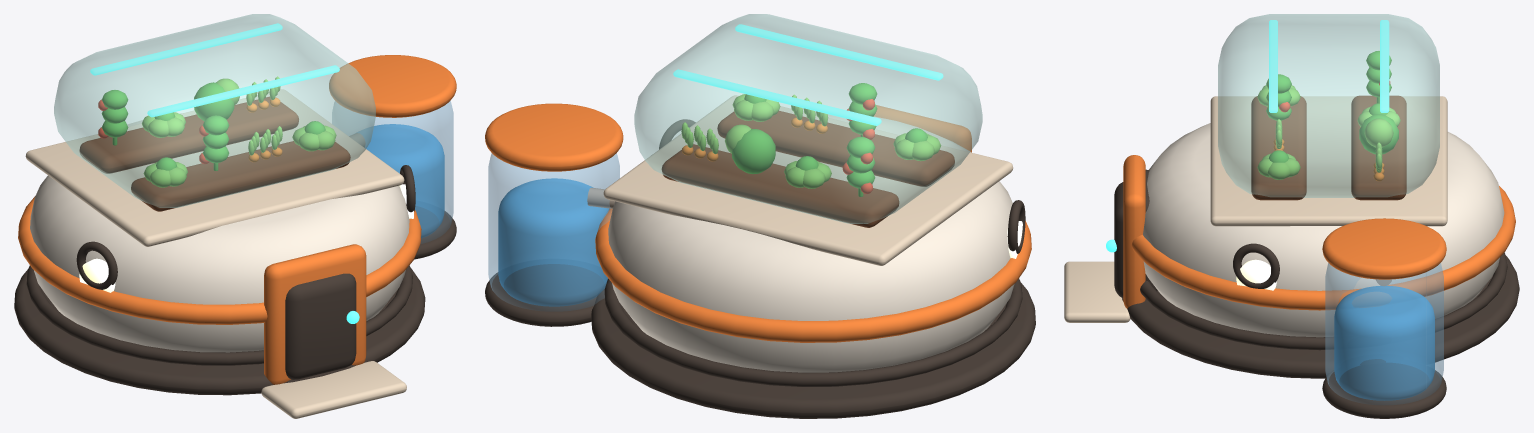
The model's file is veglab.glb.
The picture shows the model from 3 angles, left to right: view 1: azimuth 30°, elevation 25°; view 2: azimuth 150°, elevation 25°; view 3: azimuth 270°, elevation 25°; orthographic projection. The views are drawn at different scales.
Parts seen in each view (by area): view 1: Cube.005, Cylinder.001, Cube.004, Cylinder, Cylinder.006, Torus, Cube.002, Cylinder.008, Cube.008, Cube.001, Cube.009, Cylinder.007 (+11 smaller); view 2: Cube.005, Cylinder.001, Cube.004, Cylinder.006, Cylinder, Cylinder.007, Torus, Cylinder.008, Cube.009, Torus.001, Cube.008, Cylinder.009 (+5 smaller); view 3: Cube.005, Cylinder.001, Cube.004, Cylinder.006, Cylinder.007, Cylinder, Torus, Cylinder.008, Cylinder.009, Torus.001, Cube.008, Cube.009 (+9 smaller).
Boxes of the visible parts, x1,y1,x2,y2 form: Cube.005: [54, 14, 375, 207]; Cylinder.001: [30, 120, 409, 352]; Cube.004: [25, 89, 404, 246]; Cylinder: [14, 267, 425, 395]; Cylinder.006: [332, 101, 453, 243]; Torus: [18, 196, 421, 324]; Cube.002: [285, 273, 356, 379]; Cylinder.008: [329, 55, 456, 117]; Cube.008: [131, 141, 350, 211]; Cube.001: [264, 244, 366, 384]; Cube.009: [79, 96, 298, 173]; Cylinder.007: [357, 124, 444, 238]; Cube.005: [634, 14, 982, 223]; Cylinder.001: [608, 112, 1014, 372]; Cube.004: [603, 95, 1013, 265]; Cylinder.006: [488, 153, 619, 311]; Cylinder: [591, 283, 1035, 418]; Cylinder.007: [498, 178, 609, 306]; Torus: [595, 208, 1031, 342]; Cylinder.008: [485, 103, 623, 171]; Cube.009: [661, 144, 899, 227]; Torus.001: [604, 278, 1022, 386]; Cube.008: [717, 111, 954, 186]; Cylinder.009: [485, 264, 603, 326]; Cube.005: [1218, 14, 1439, 197]; Cylinder.001: [1143, 123, 1504, 337]; Cube.004: [1210, 96, 1447, 226]; Cylinder.006: [1325, 263, 1443, 405]; Cylinder.007: [1334, 285, 1434, 400]; Cylinder: [1122, 255, 1519, 378]; Torus: [1132, 186, 1515, 310]; Cylinder.008: [1322, 218, 1446, 279]; Cylinder.009: [1322, 363, 1446, 418]; Torus.001: [1140, 252, 1507, 350]; Cube.008: [1251, 96, 1306, 200]; Cube.009: [1351, 95, 1406, 200].
Size of the model in its own units: 2.67 by 1.44 by 2.46.
